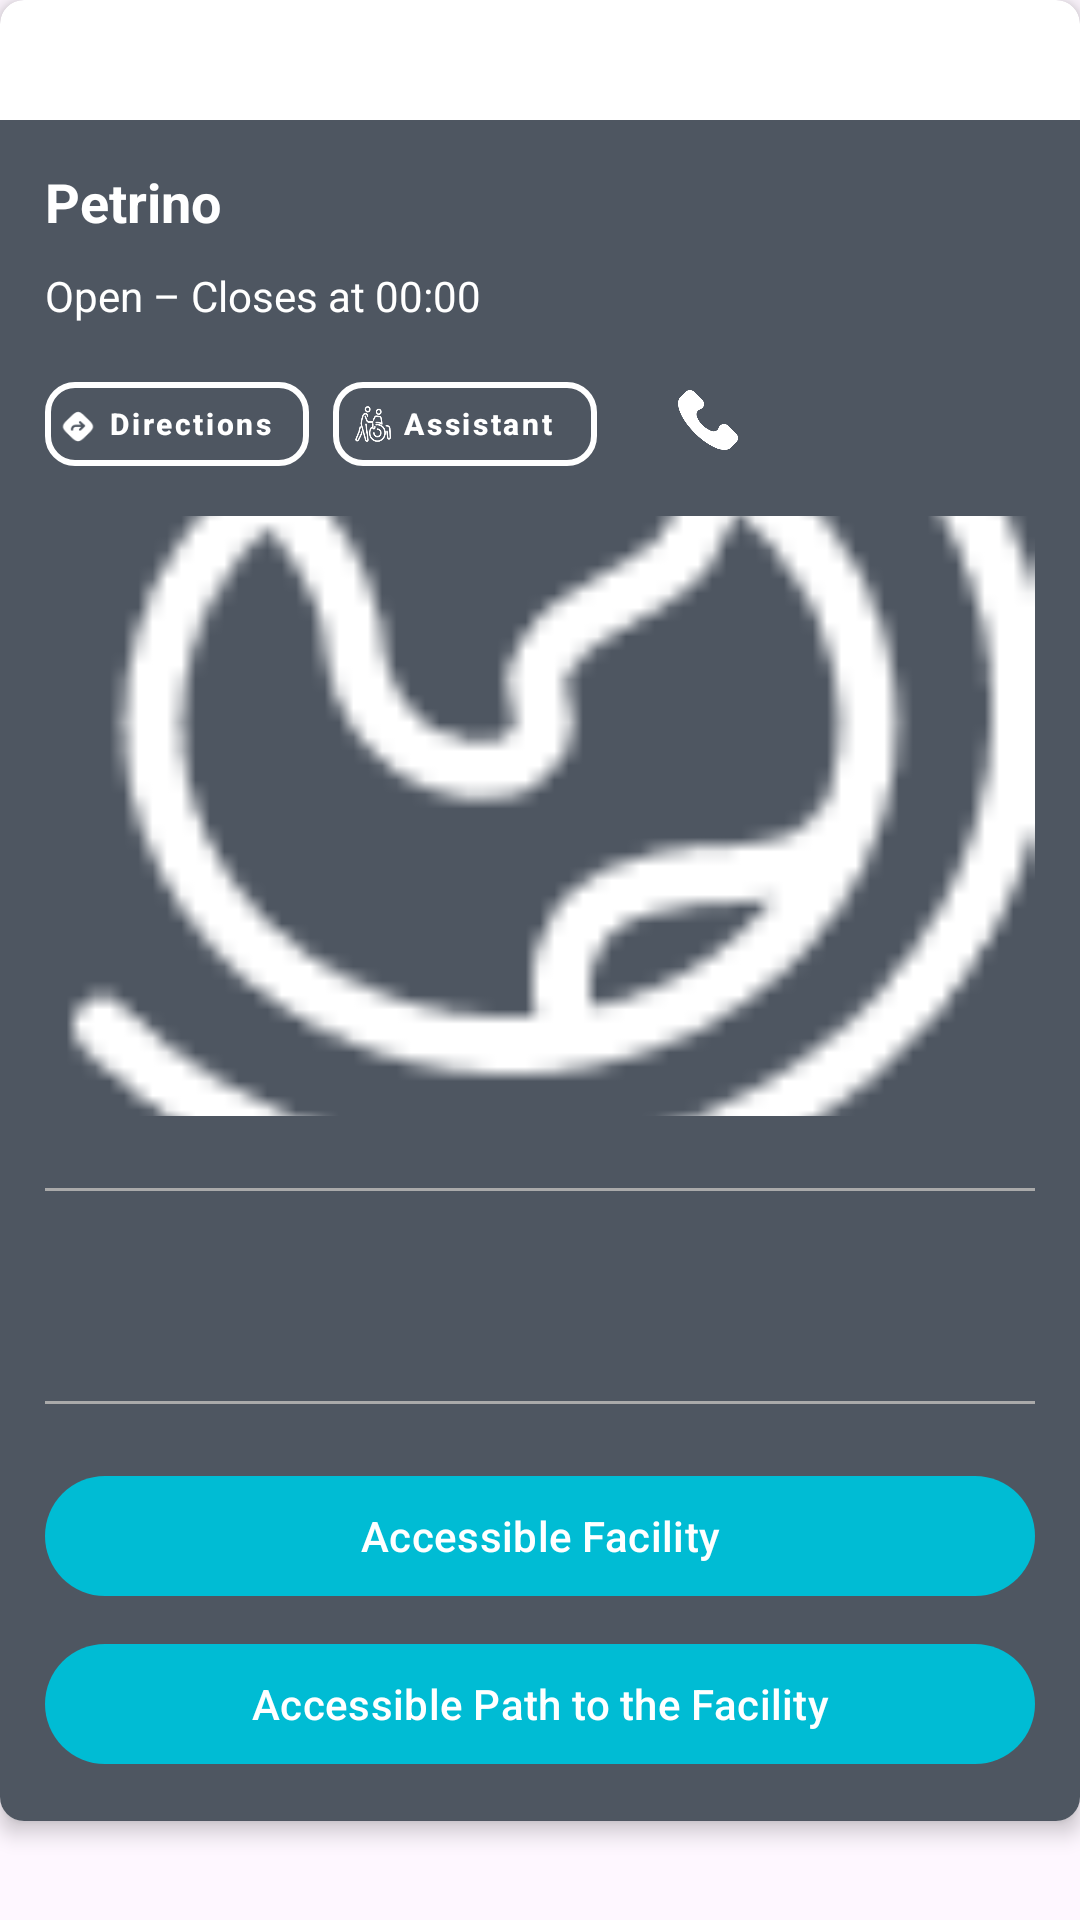

Screen size 1080 x 1920. Icon name, then its box in pixels as bbox=(x1, y1, x2, y2):
phone: bbox=(678, 390, 738, 450)
